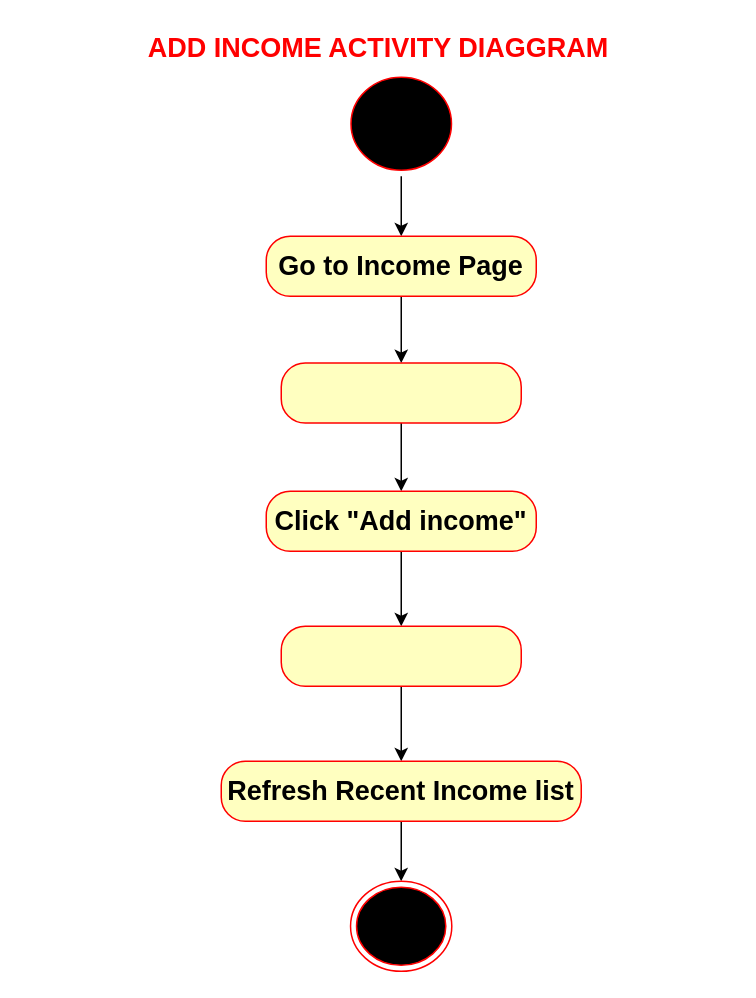
Some shapes in this 756 by 998 pixel diagram are drawn without their labels. The centre of each missing label's shape, as x and y in pixels:
Fill forms: [400,392]
Save to database: [400,655]
